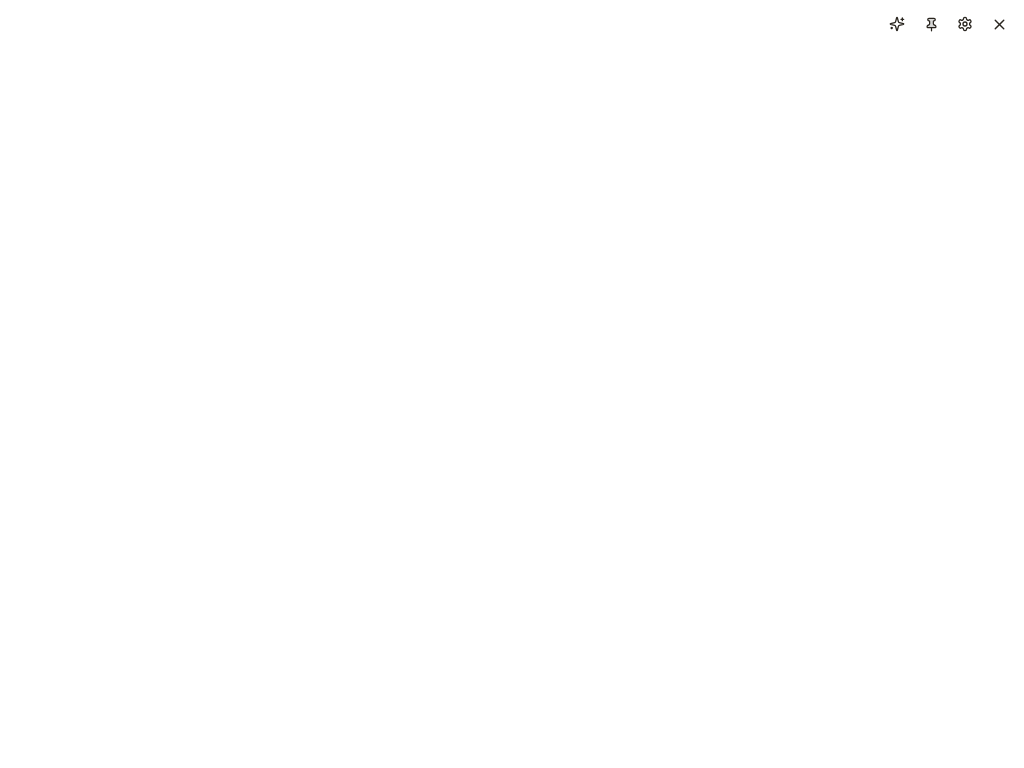
Test: window close choice › saves window state before minimizing and hides the native background without quitting
Step 1. Click the button named "关闭窗口" → click(999, 24), box [983,8,1015,40]
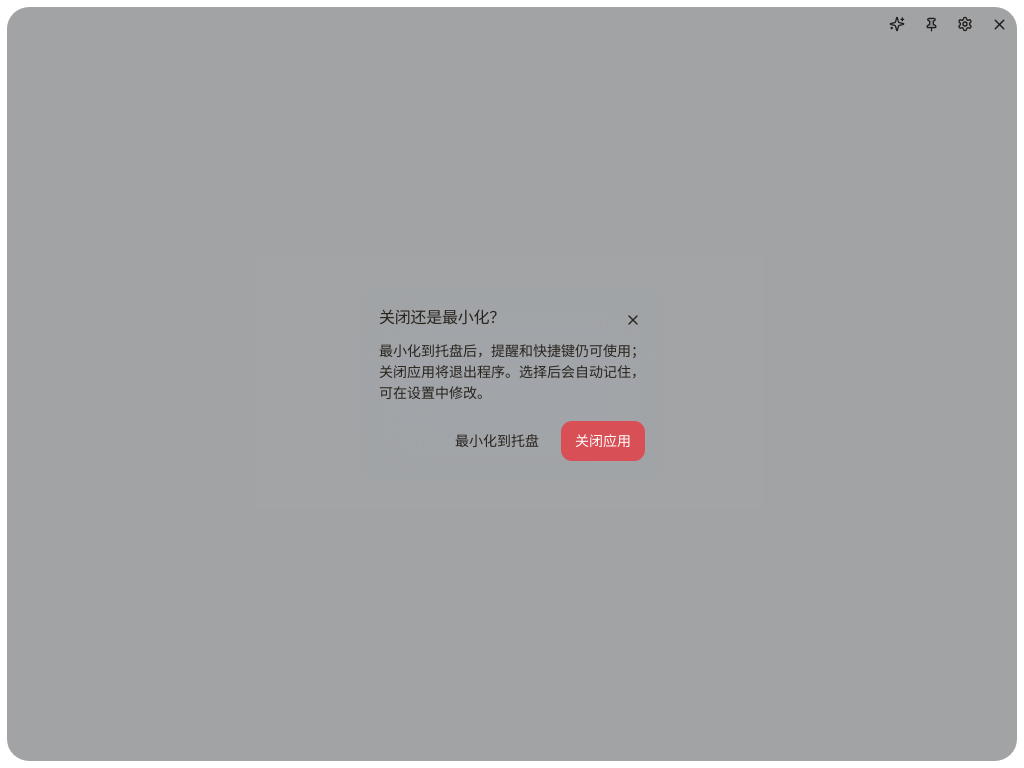
Step 2. Click the button "最小化到托盘" → click(497, 440), box [441,420,553,460]
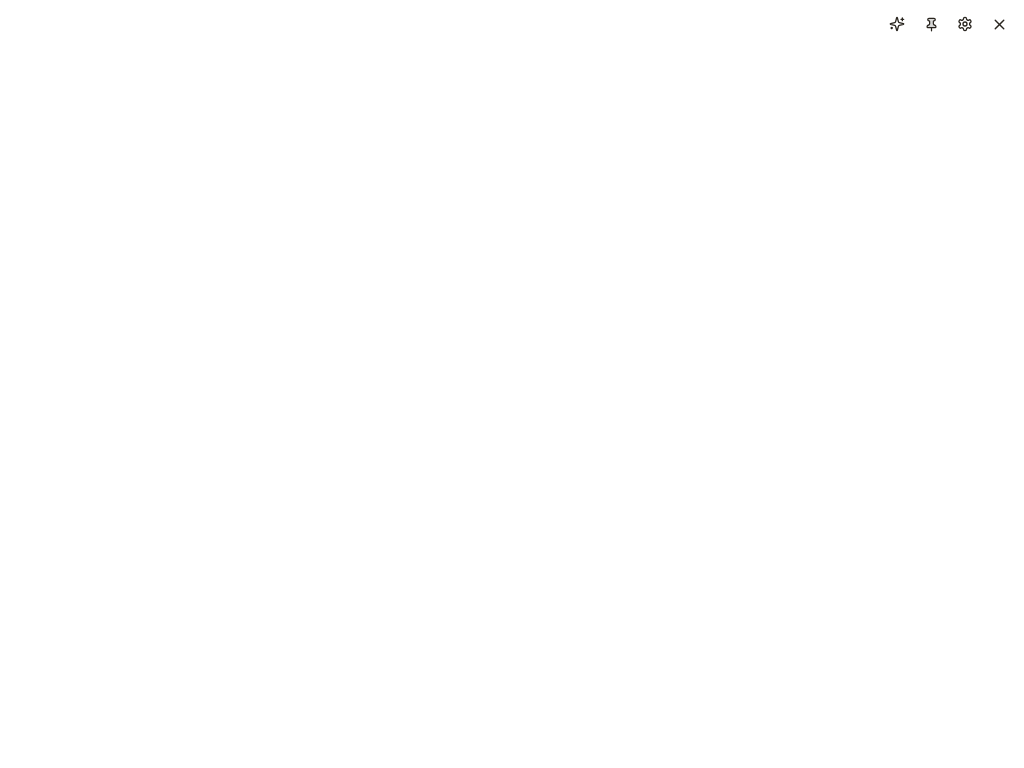
Check: the dialog is gone
